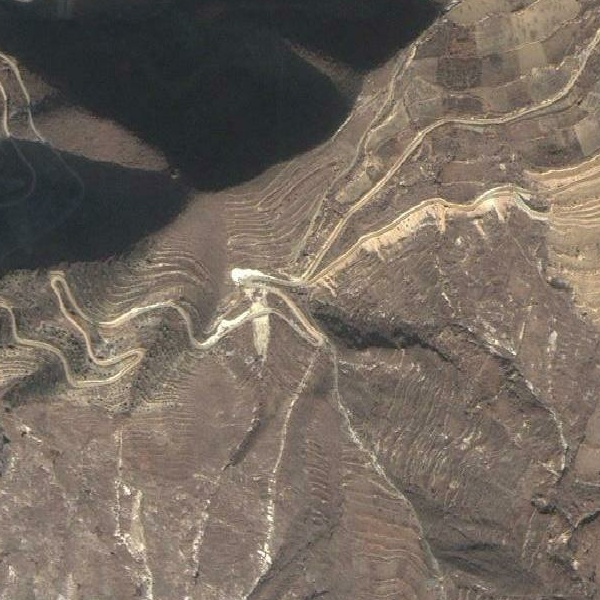slope: (246, 299, 272, 359), (223, 261, 267, 287)
